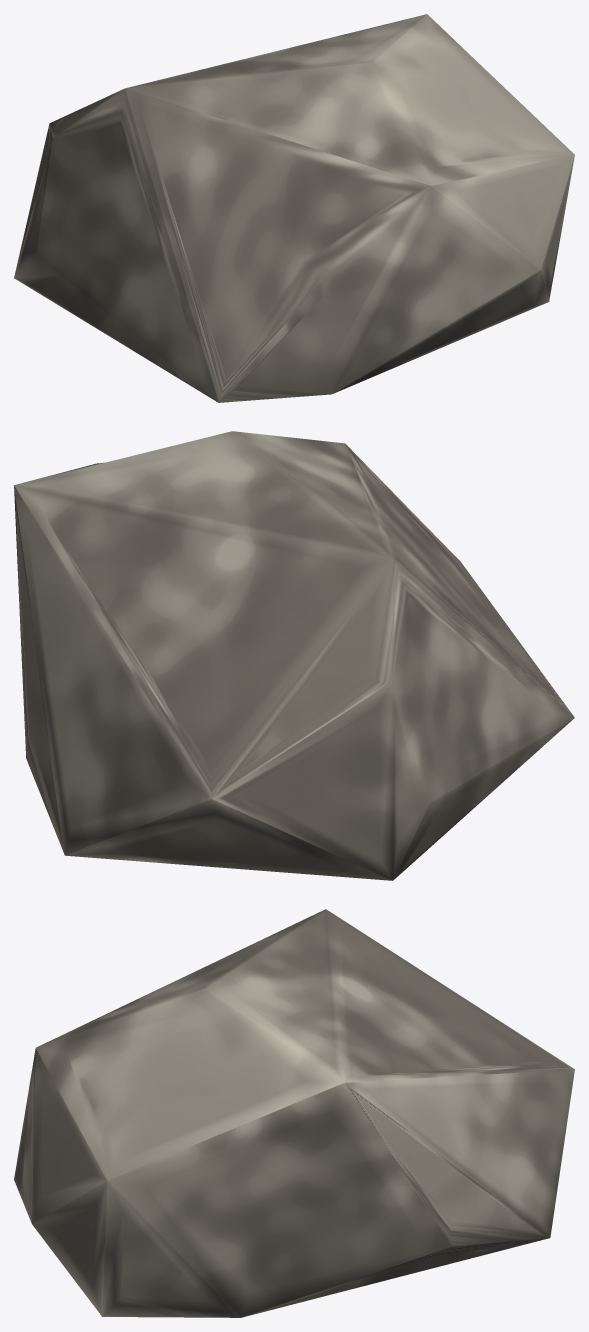
The model's file is rock_lp2.gltf.
3 views of the same model, one above another, from view 1: azimuth 30°, elevation 25°; view 2: azimuth 150°, elevation 25°; view 3: azimuth 270°, elevation 25° (orthographic). The views are drawn at different scales.
Visible parts, largest first — view 1: rock_lp2_stone_LOD0; view 2: rock_lp2_stone_LOD0; view 3: rock_lp2_stone_LOD0.
Boxes of the visible parts, left/top/right/bottom form: rock_lp2_stone_LOD0: left=14, top=14, right=574, bottom=402; rock_lp2_stone_LOD0: left=14, top=431, right=574, bottom=880; rock_lp2_stone_LOD0: left=14, top=909, right=574, bottom=1317.
Size of what is drawn, in the model's own units: 0.4306 by 0.2381 by 0.4684.
Materials: 1 (1 with a texture image).
